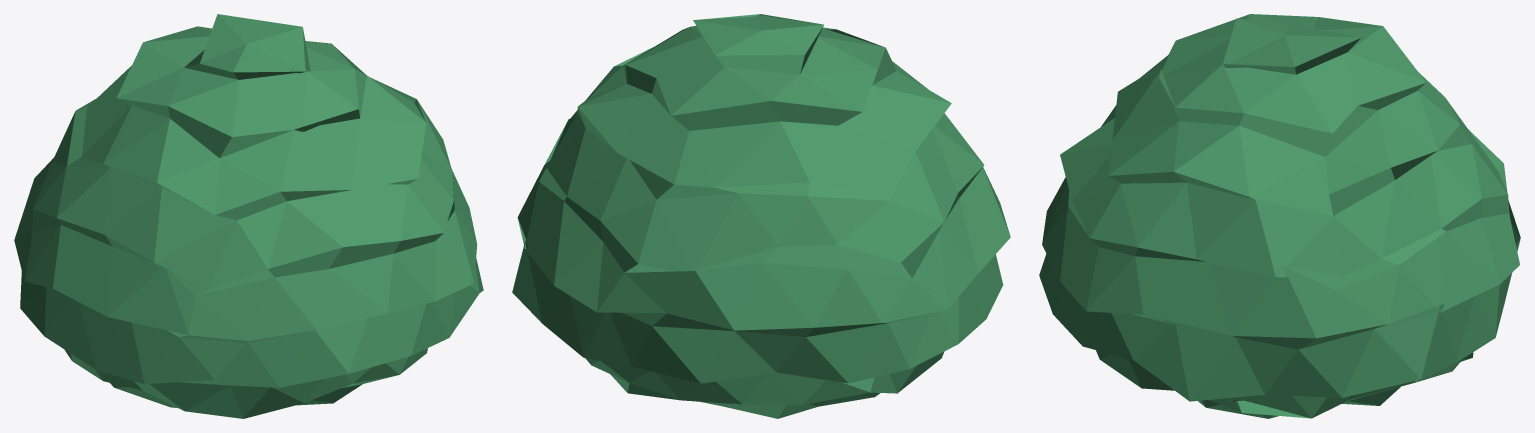
Rendered from Semak-semak.fbx.
3 renders of one model, left to right at view 1: azimuth 30°, elevation 25°; view 2: azimuth 150°, elevation 25°; view 3: azimuth 270°, elevation 25°, orthographic. The views are drawn at different scales.
Parts seen in each view (by area): view 1: semak semak.003; view 2: semak semak.003; view 3: semak semak.003.
Boxes of the visible parts, x1,y1,x2,y2 form: semak semak.003: (14, 14, 483, 418); semak semak.003: (512, 14, 1010, 418); semak semak.003: (1039, 14, 1520, 418).
Size of the model in its own units: 416 by 301 by 409.
